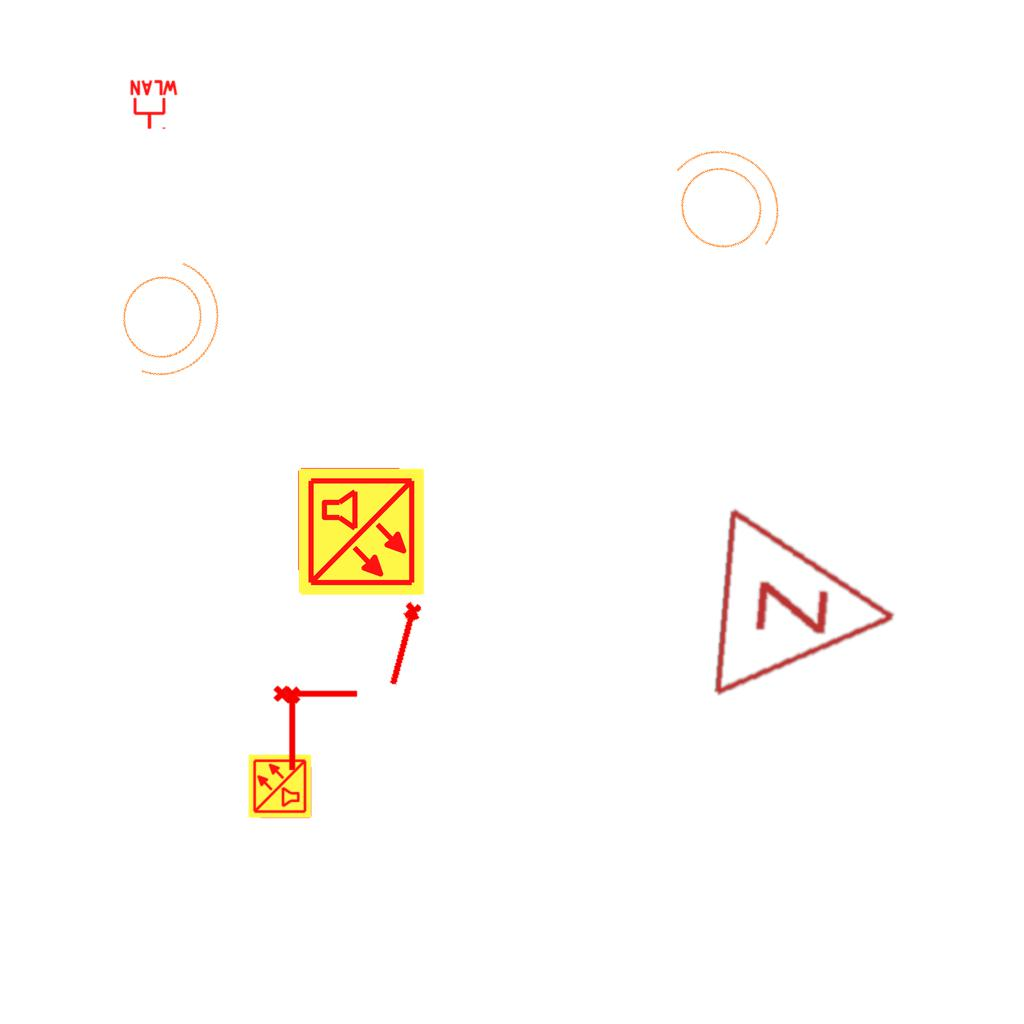ASR_Ansaugoeffnung: (382, 599, 428, 690), (272, 681, 360, 704), (282, 685, 305, 773)
OKW_Multisensormelder_(Kombination_optischer_Rauch-Kahlenmonoxid_Waerme-Melder): (295, 466, 427, 598), (247, 753, 313, 819)
Scheinwerfer_fuer_Alarmbeleuchtung: (635, 116, 809, 288), (92, 234, 244, 398)
WLAN: (128, 79, 180, 131)
Zimmersignalleuchte: (699, 500, 917, 714)
